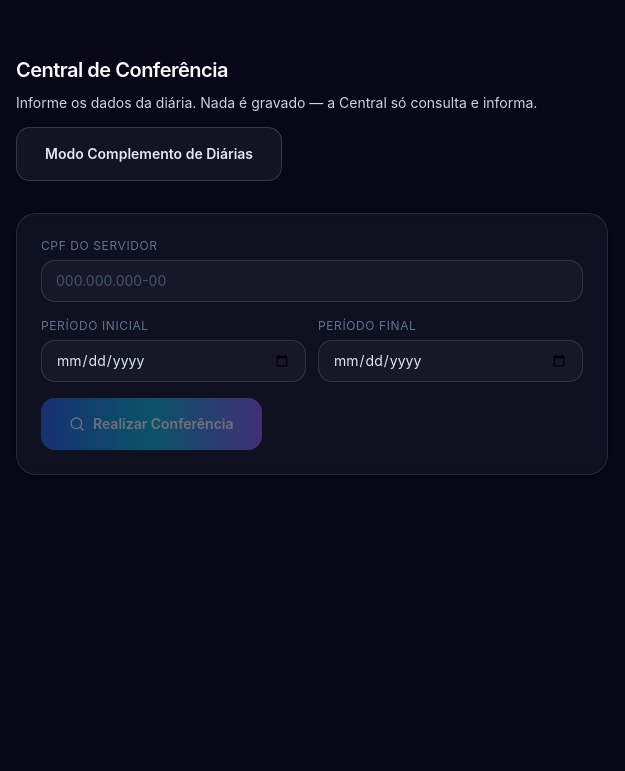
Test: Conferencia — portão da Etapa 2 › veredito APTO revela a Etapa 2 só depois da conferência
Expected: the text "Gerar Histórico para o e-Fisco" is not shown
Step 1. Type "12345678901" into the field labelled "CPF do servidor" → (312, 281), box [41,260,583,302]
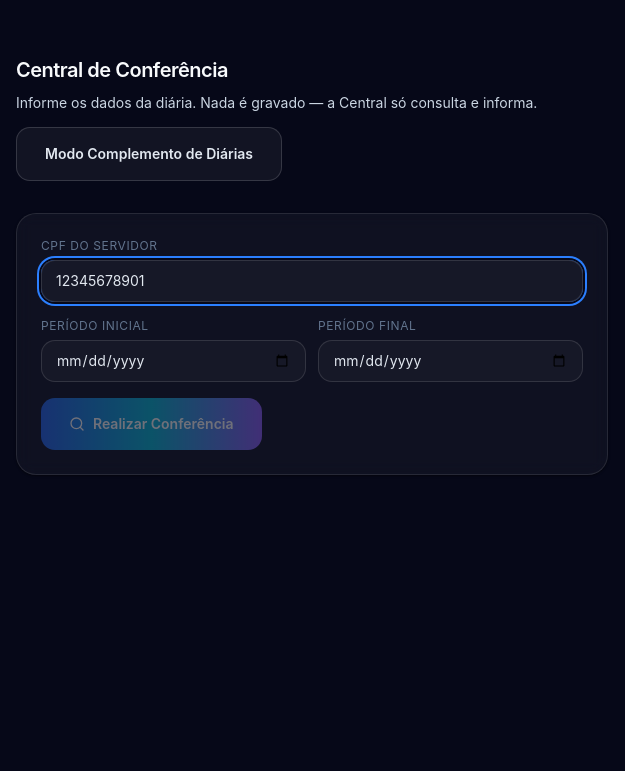
Step 2. Type "2026-07-21" into the date field labelled "Período inicial" → (174, 361), box [41,340,306,382]
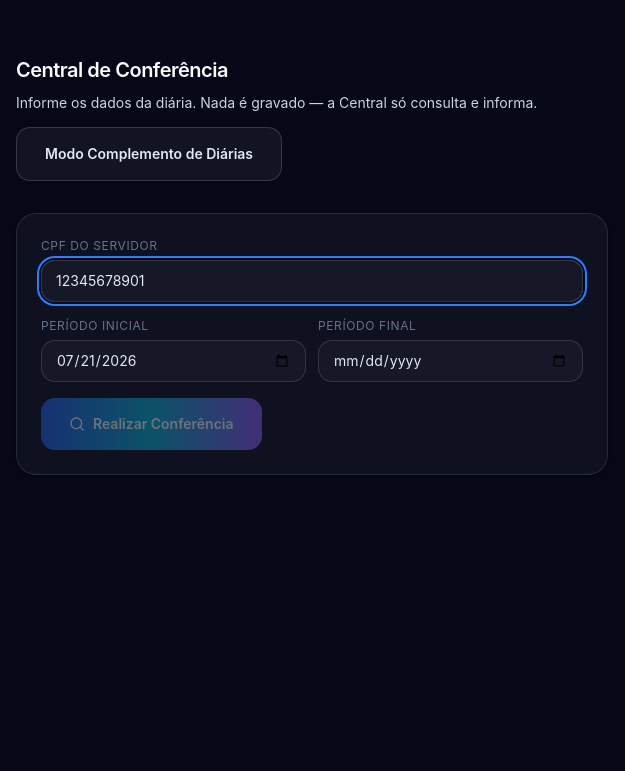
Step 3. Type "2026-07-23" into the date field labelled "Período final" → (450, 361), box [318,340,583,382]
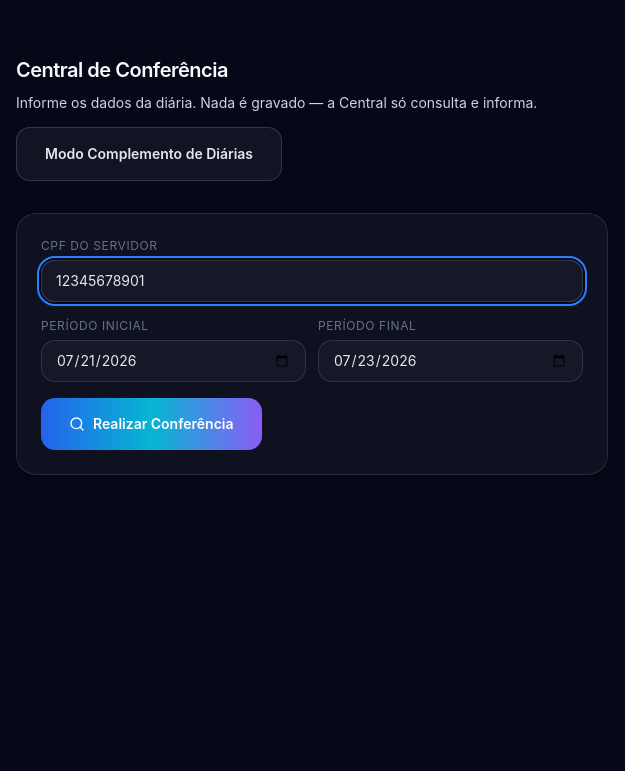
Step 4. Click the button "Realizar Conferência" → (151, 424), box [41,398,262,450]
(page scrolled)
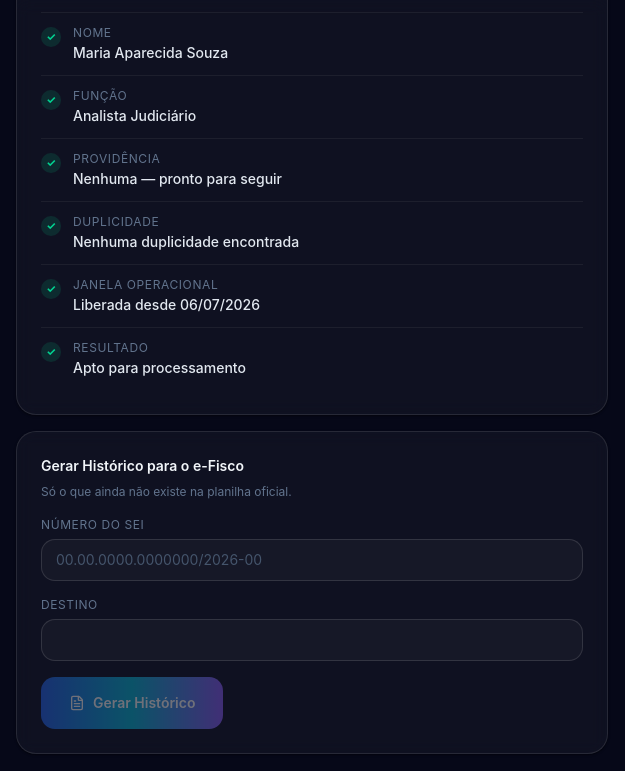
Now the heading "Gerar Histórico para o e-Fisco" is shown, box [41,457,244,474]
